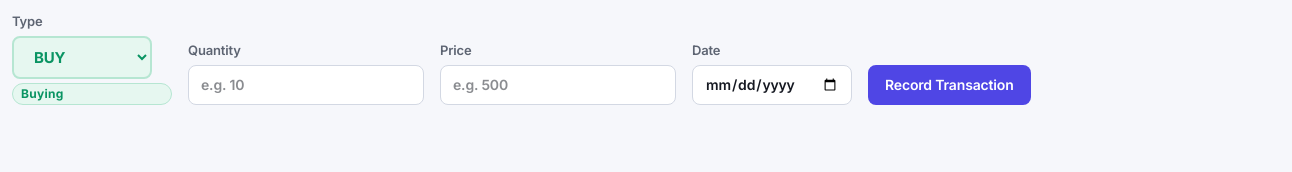
Test case: RecordTransactionForm › valid BUY succeeds
The width and height of the screenshot is (1292, 172).
In the field labelled "Quantity": (306, 84) [188,64,424,104], type "10"
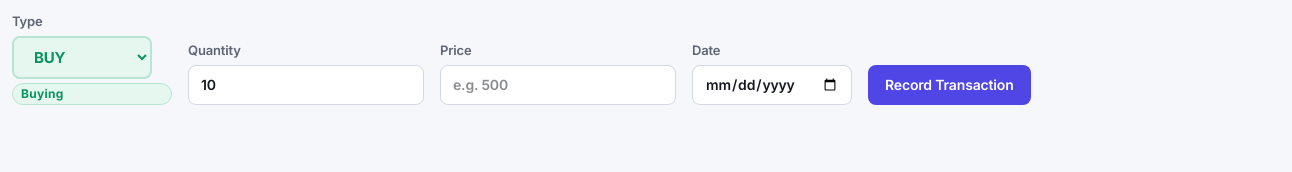
In the field labelled "Price": (558, 84) [440,64,676,104], type "500"
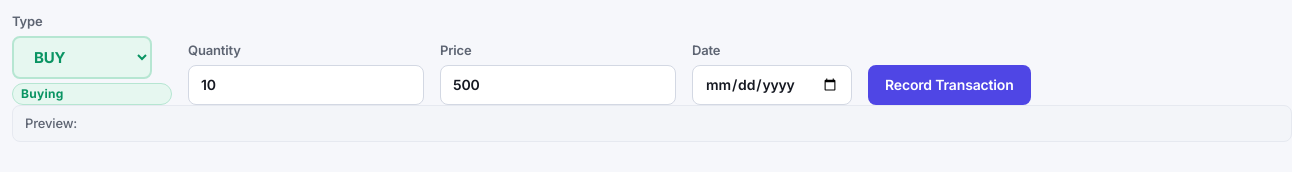
In the date field named "Transaction date": (772, 84) [692,64,852,104], type "2026-09-01"
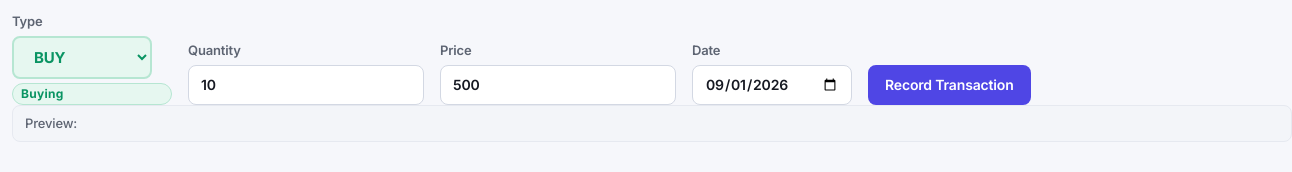
Click the button "Record Transaction": (949, 84) [868,64,1031,104]
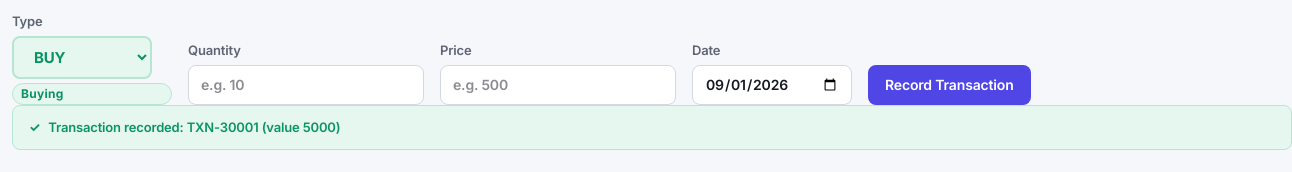
Result: the text "✓ Transaction recorded: TXN-30001 (value 5000)" is shown at [12,104,1291,150]
